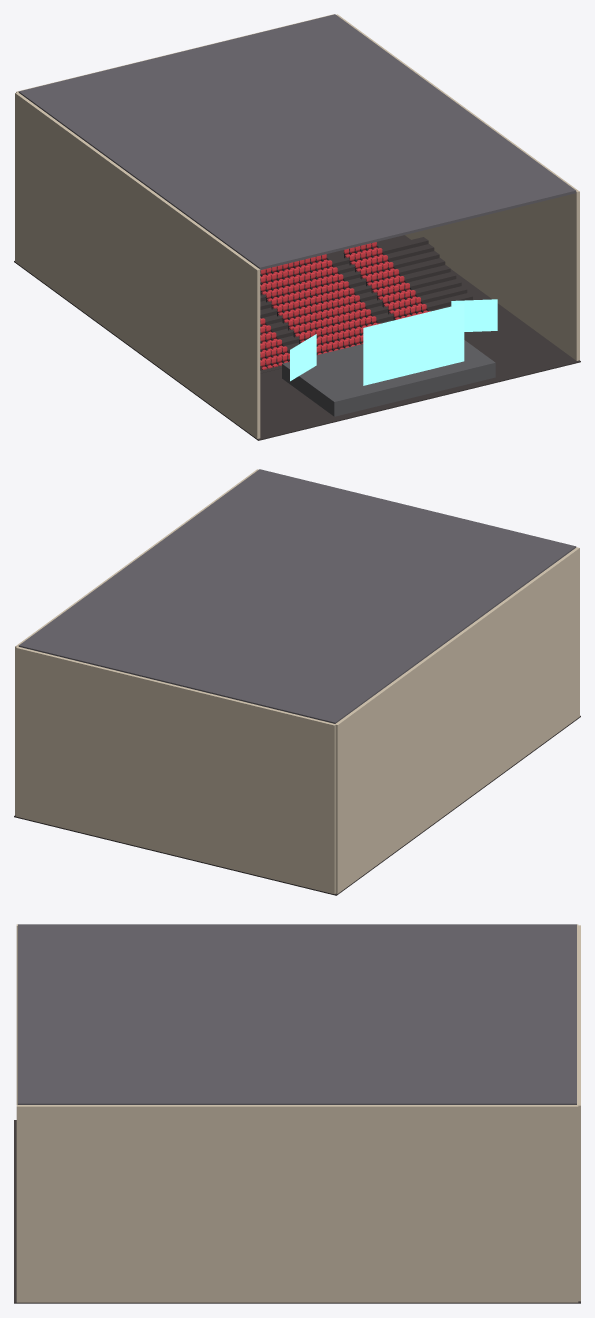
Rendered from reference-auditorium-v1-world.glb.
3 renders of one model, top to bottom at view 1: azimuth 30°, elevation 25°; view 2: azimuth 150°, elevation 25°; view 3: azimuth 270°, elevation 25°, orthographic. The views are drawn at different scales.
Parts seen in each view (by area): view 1: Ceiling, Wall_Left, Wall_Right, Floor, Stage, Screen_Main, Screen_Right, Screen_Left, Riser_R04, Riser_R06, Riser_R05, Riser_R07 (+5 smaller); view 2: Ceiling, Wall_Back, Wall_Left, Floor, Wall_Right; view 3: Wall_Right, Ceiling, Floor, Wall_Back.
Part boxes in pixels (x1=…): Ceiling: x1=18, y1=14, x2=576, y2=270; Wall_Left: x1=15, y1=92, x2=260, y2=438; Wall_Right: x1=336, y1=14, x2=579, y2=360; Floor: x1=14, y1=235, x2=580, y2=440; Stage: x1=282, y1=340, x2=495, y2=416; Screen_Main: x1=363, y1=303, x2=464, y2=385; Screen_Right: x1=451, y1=299, x2=497, y2=331; Screen_Left: x1=290, y1=334, x2=316, y2=381; Riser_R04: x1=265, y1=286, x2=467, y2=339; Riser_R06: x1=261, y1=272, x2=456, y2=325; Riser_R05: x1=265, y1=279, x2=461, y2=332; Riser_R07: x1=260, y1=265, x2=450, y2=318; Ceiling: x1=18, y1=469, x2=576, y2=723; Wall_Back: x1=16, y1=646, x2=335, y2=894; Wall_Left: x1=335, y1=547, x2=579, y2=893; Floor: x1=14, y1=715, x2=580, y2=895; Wall_Right: x1=15, y1=469, x2=258, y2=815; Wall_Right: x1=16, y1=1105, x2=578, y2=1302; Ceiling: x1=18, y1=924, x2=576, y2=1104; Floor: x1=14, y1=1120, x2=580, y2=1303; Wall_Back: x1=577, y1=925, x2=580, y2=1301.
Size of the model in its own units: 32 by 16.23 by 42.
